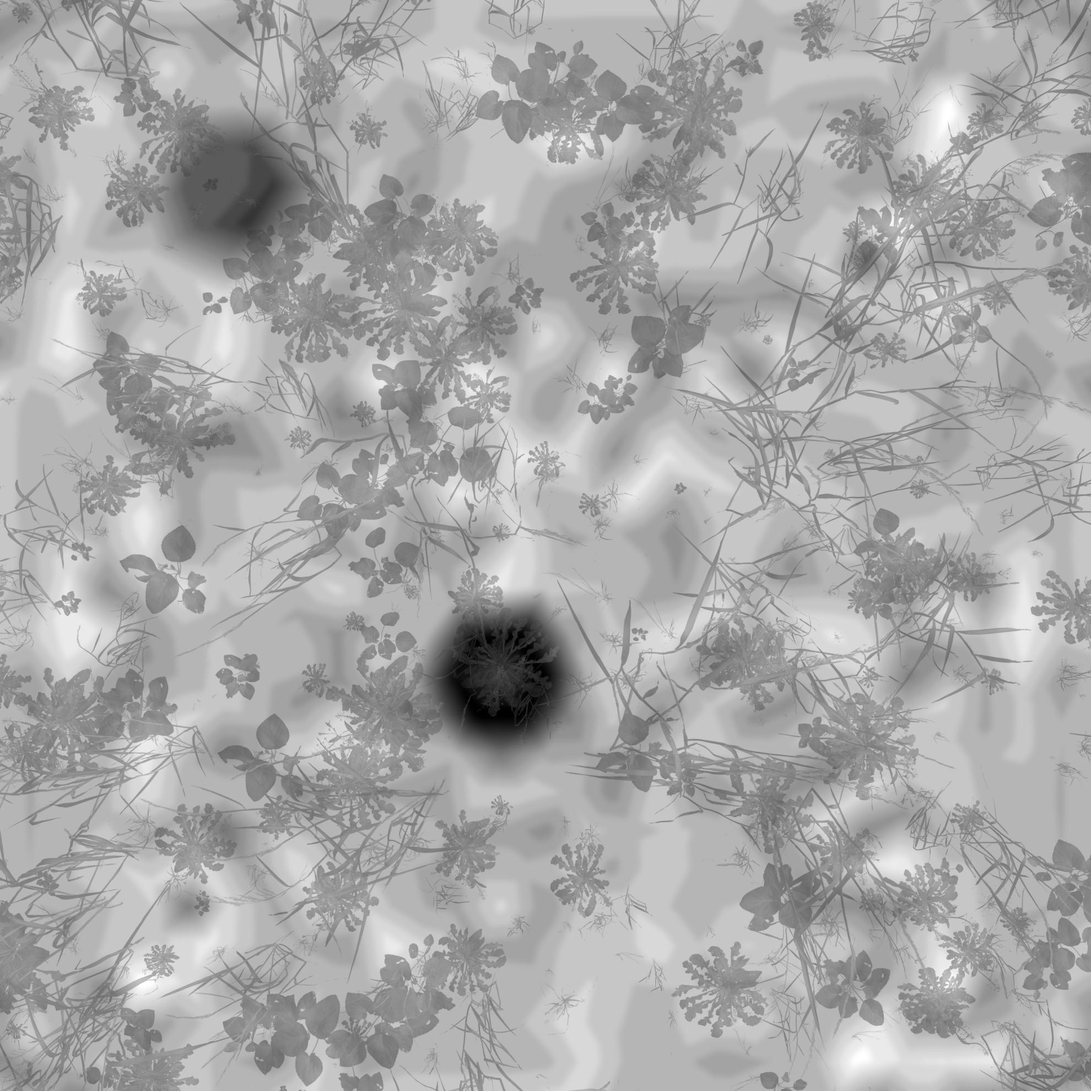landmine: (433, 600, 580, 758), (161, 118, 311, 270)
